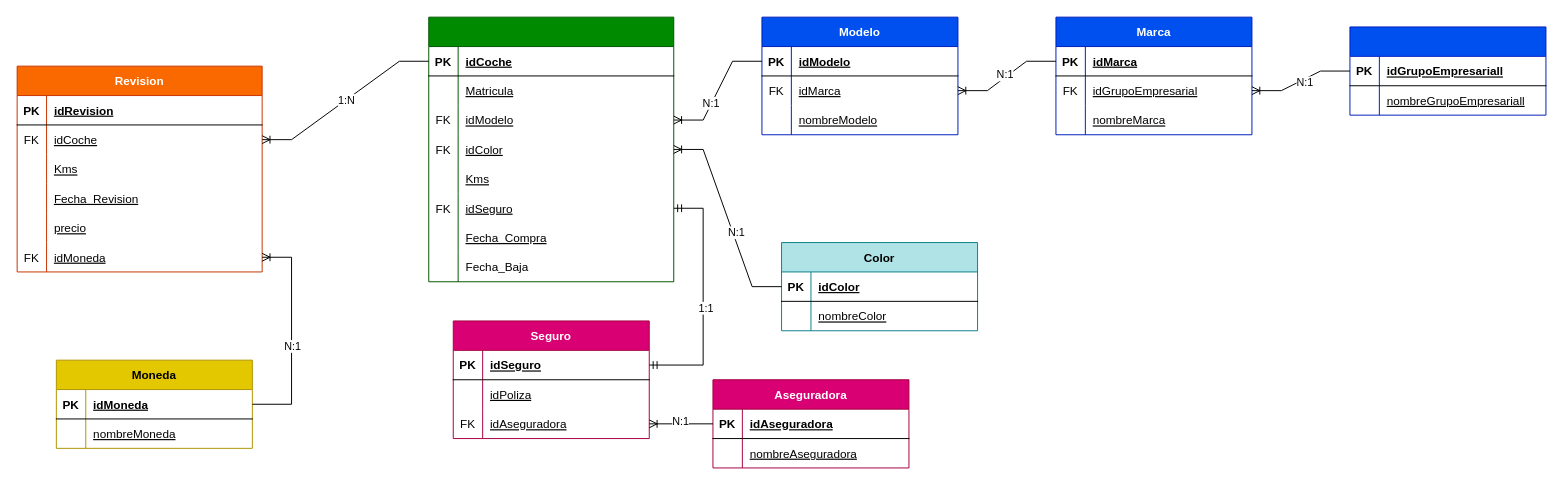
The diagram is 1563 pixels wide and 485 high, and some of its shapes have lost their labels. Here are the shapes that lost their labels. From the top down, the box of each, then its label:
(1349, 26, 1546, 115): GrupoEmpreariall
(428, 16, 674, 282): Coches
